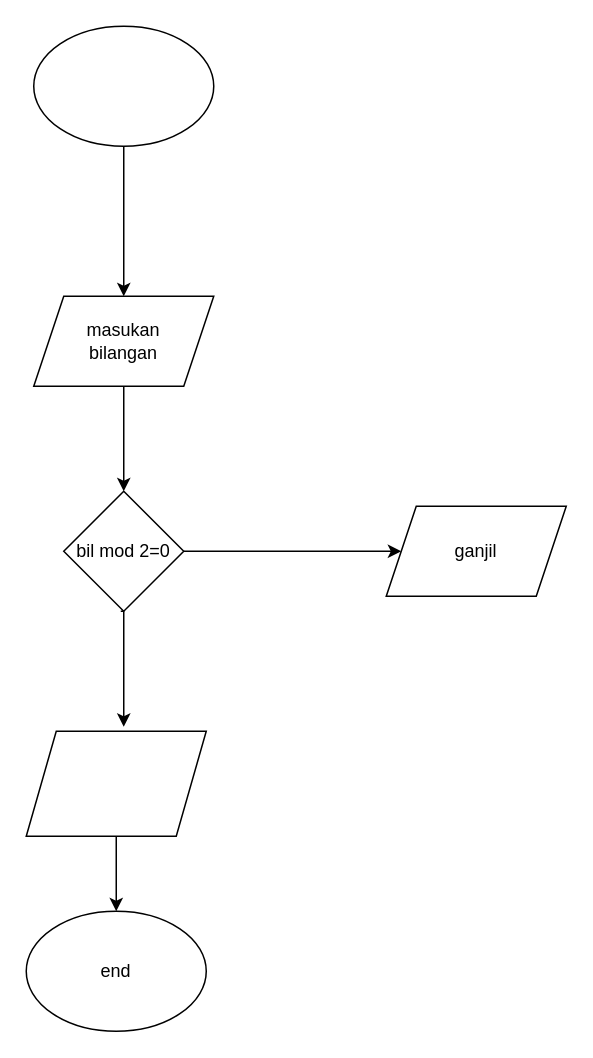
This 593x1058 diagram has some shape labels left out. The centre of each missing label's shape, as x and y in pixels:
"genap" goes at point 115,783.
"start" goes at point 123,85.
